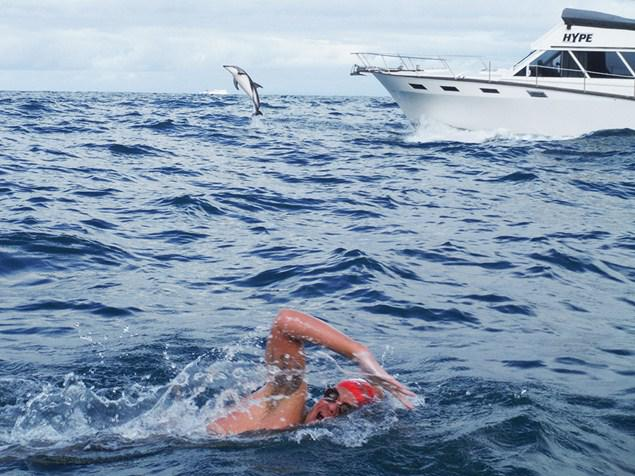human: (206, 306, 417, 446)
